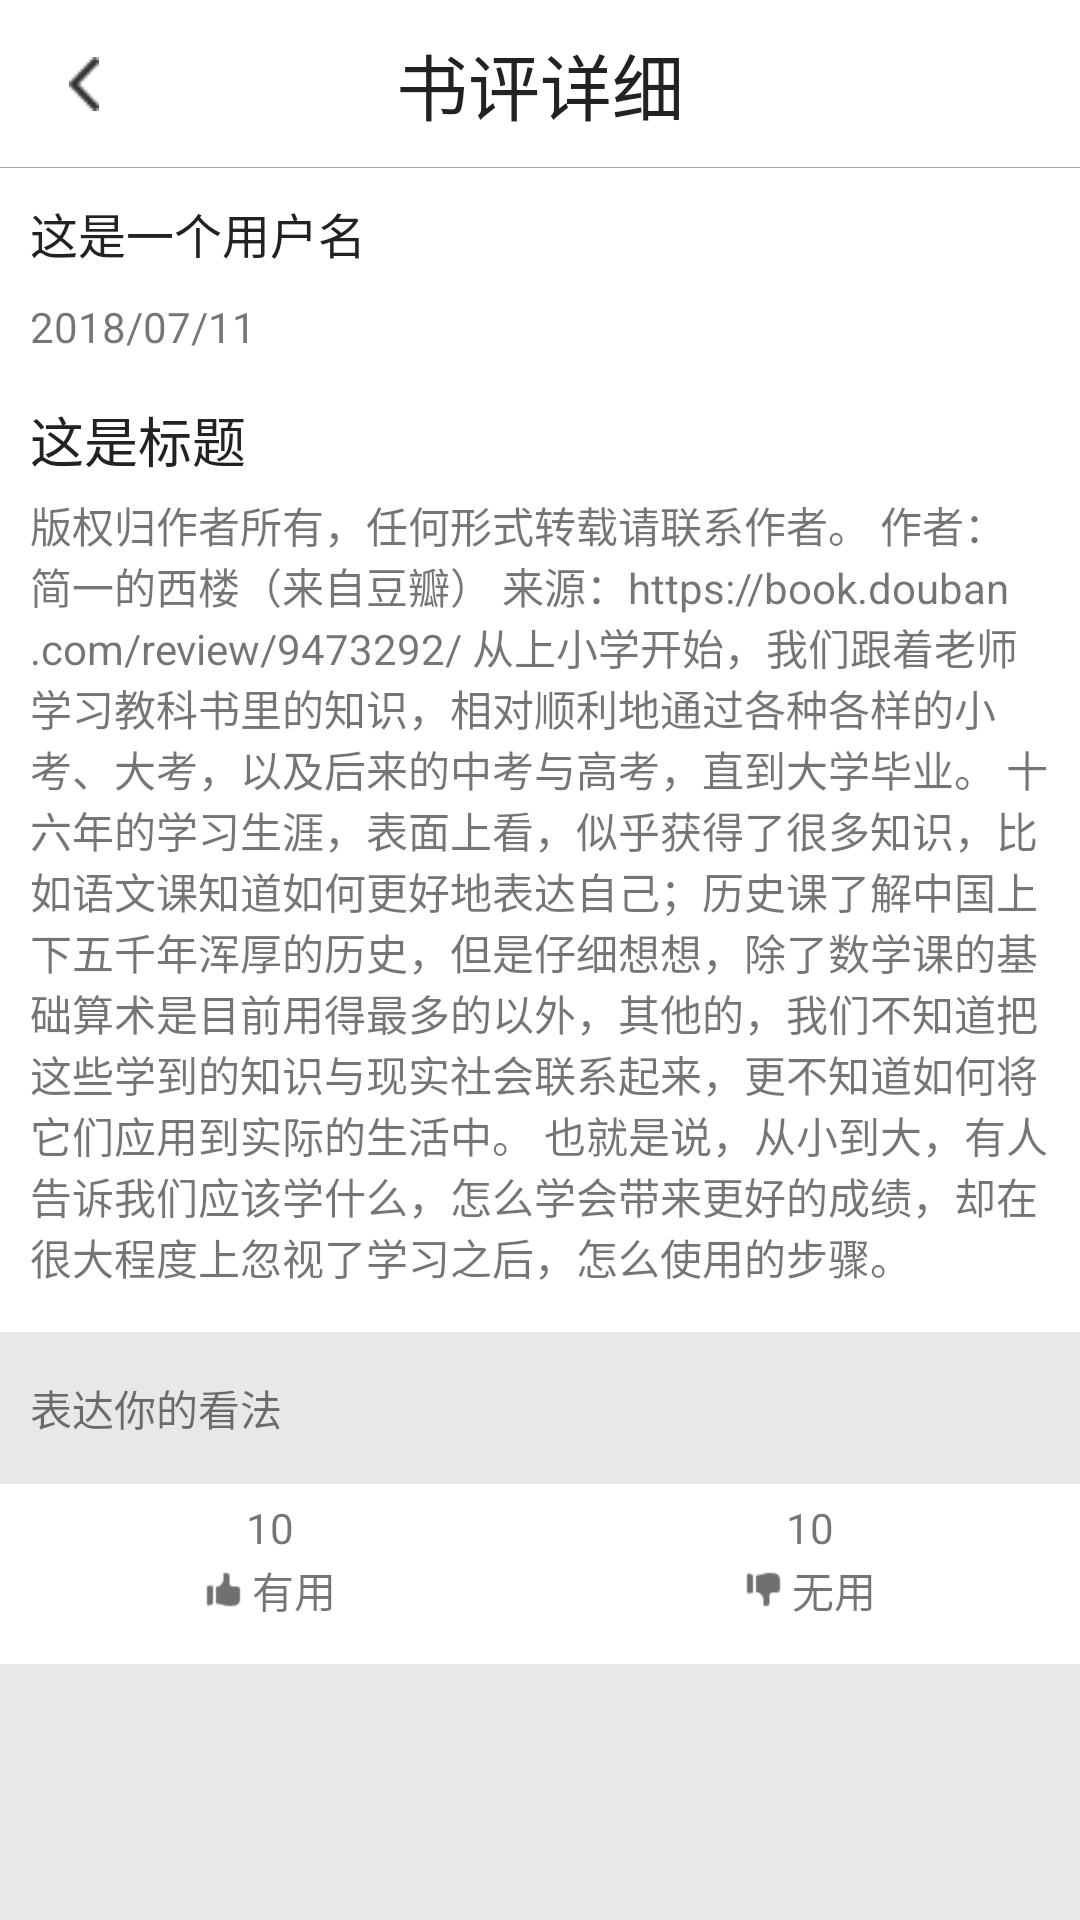

Named icons in this screenshot (1080×1920) and their bounding boxes, (x1, y1, x2, y2):
dislike unselect: (747, 1573, 780, 1606)
like unselect: (206, 1573, 240, 1606)
